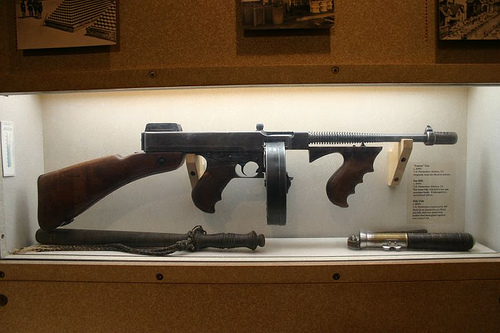rifle: (36, 123, 472, 244)
